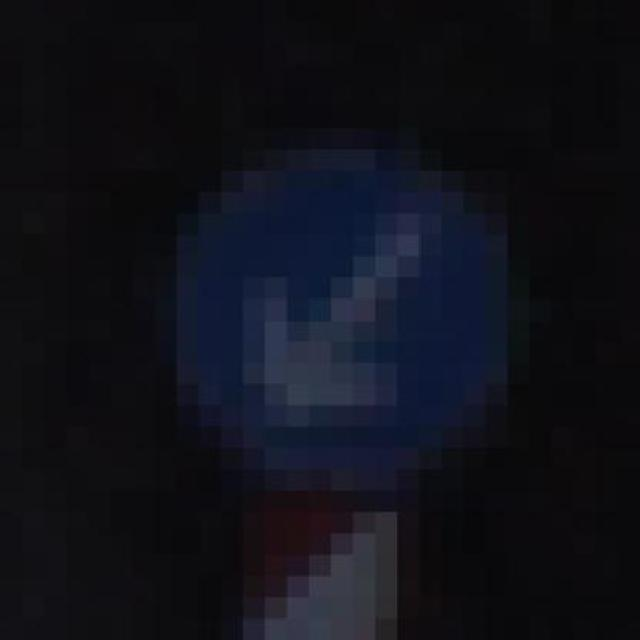Keep-Left: (132, 128, 552, 512)
